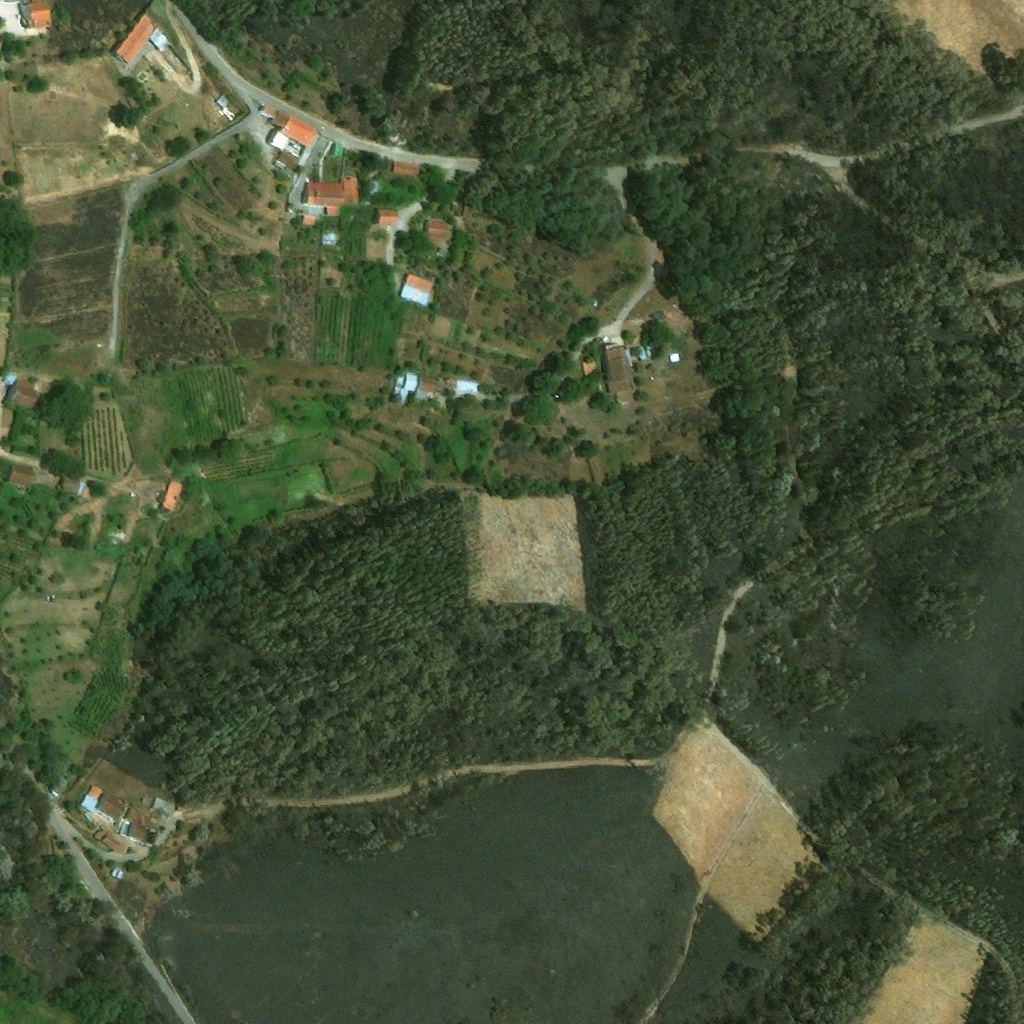0 no-damage: (111, 10, 171, 68), (303, 175, 360, 215), (267, 109, 318, 149), (603, 343, 634, 405), (3, 367, 42, 410), (120, 807, 159, 846), (397, 272, 435, 309), (91, 826, 128, 856), (97, 793, 130, 824), (159, 479, 186, 514), (58, 475, 94, 500), (78, 783, 105, 815), (415, 376, 445, 401), (6, 463, 37, 487), (423, 219, 450, 246), (396, 373, 418, 406), (48, 774, 72, 800), (274, 149, 302, 170), (446, 379, 478, 397), (150, 796, 176, 817), (376, 207, 403, 224), (391, 370, 407, 396), (580, 359, 599, 378), (393, 161, 419, 174), (258, 103, 279, 119), (321, 232, 341, 245), (302, 214, 319, 227), (110, 866, 124, 879), (438, 247, 449, 256)
4 un-classified: (19, 0, 55, 27)
